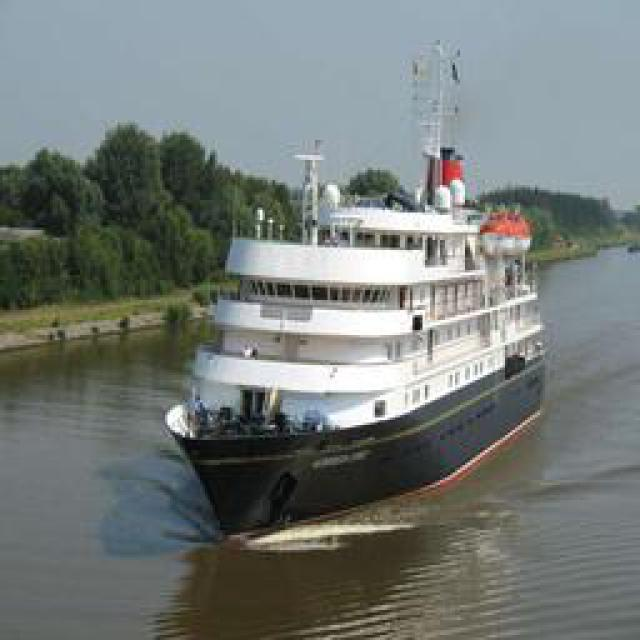Ship: (166, 101, 549, 541)
